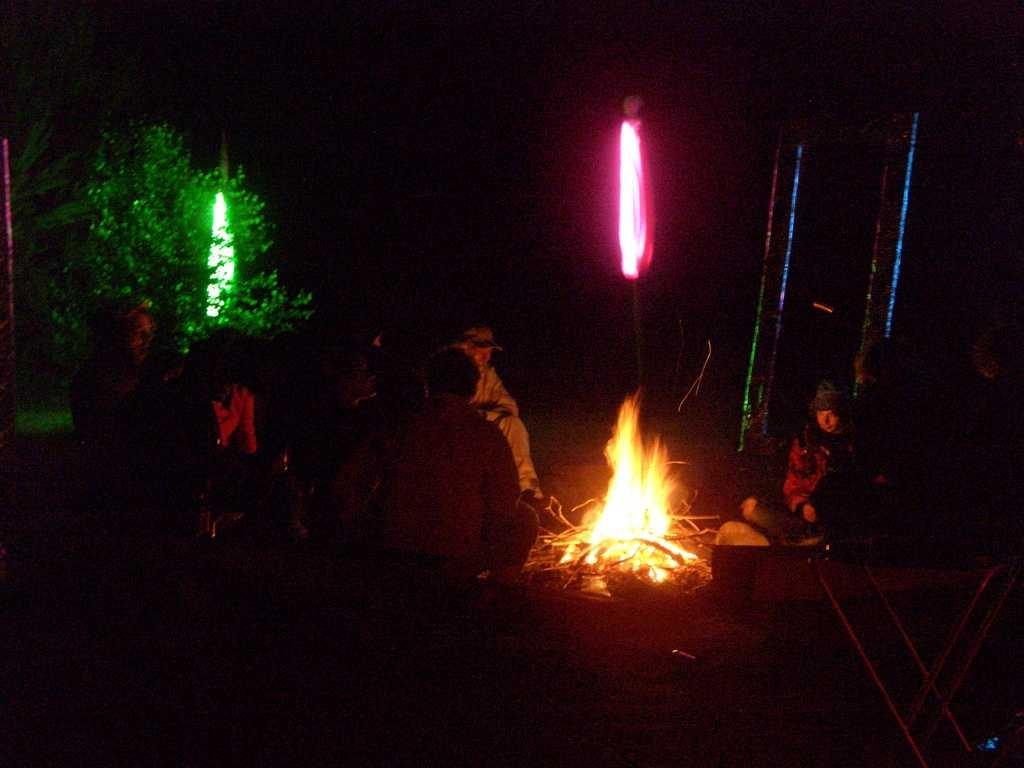fire: (576, 411, 697, 617), (616, 94, 674, 294)
